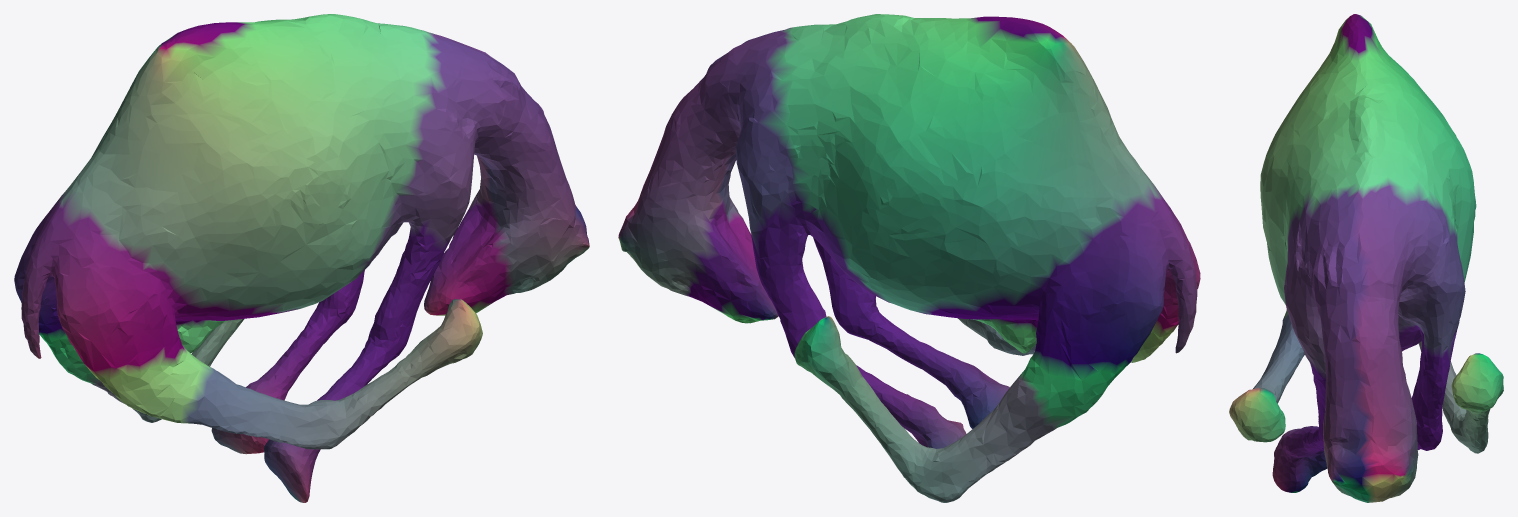
The model's file is camel-20.off.obj.
3 views of the same model, side by side, from view 1: azimuth 30°, elevation 25°; view 2: azimuth 150°, elevation 25°; view 3: azimuth 270°, elevation 25° (orthographic). The views are drawn at different scales.
Bounding box in the file's own units: 1.6 × 1.26 × 0.7184.
